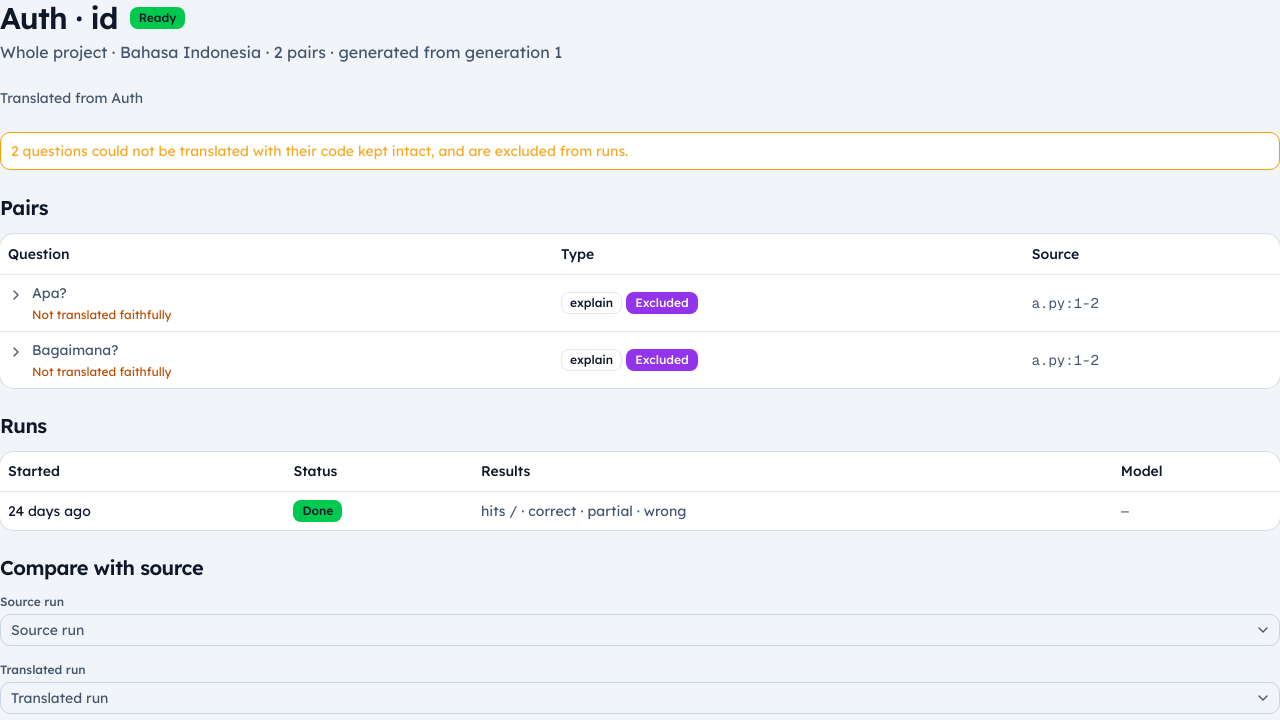
Test case: EvalSetScreen › compares a translated run with a source run, labelled by language
The image size is (1280, 720).
Click the dropdown labelled "Source run". click: (48, 630)
box: [0,614,1279,646]
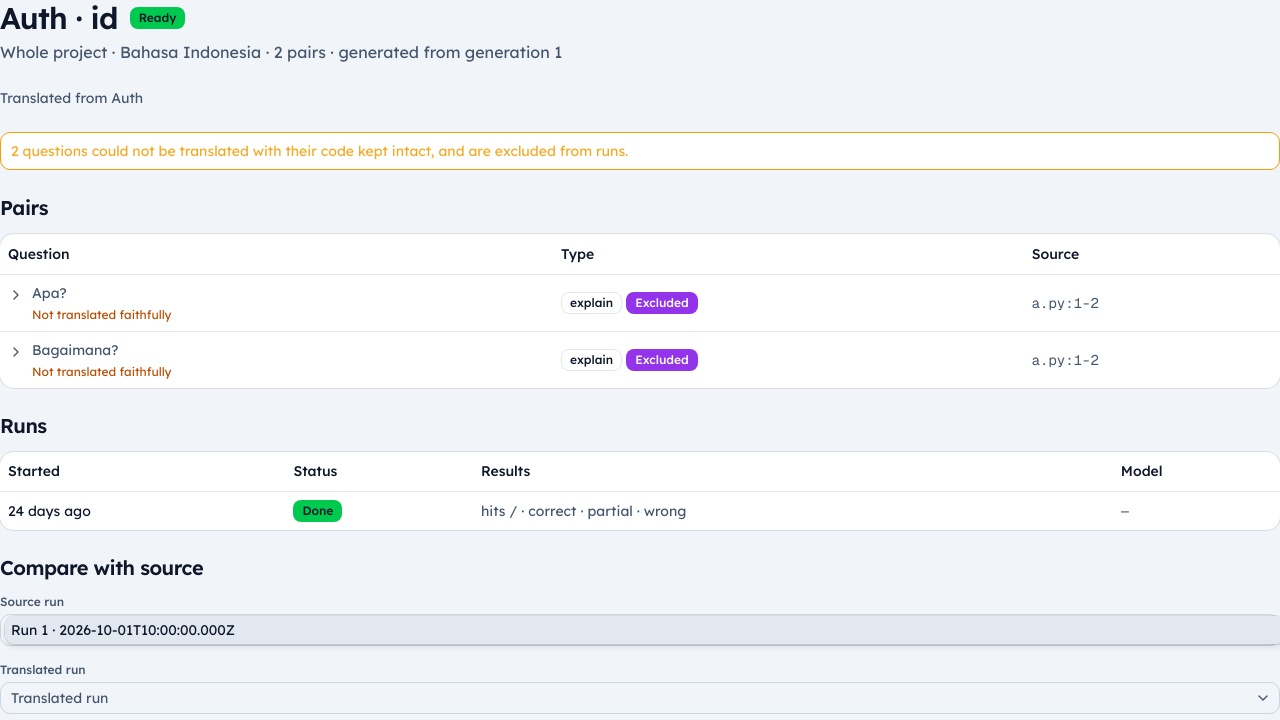
Click the option "Run 1 · 2026-10-01T10:00:00.000Z". click: (123, 630)
box: [5,616,1279,644]
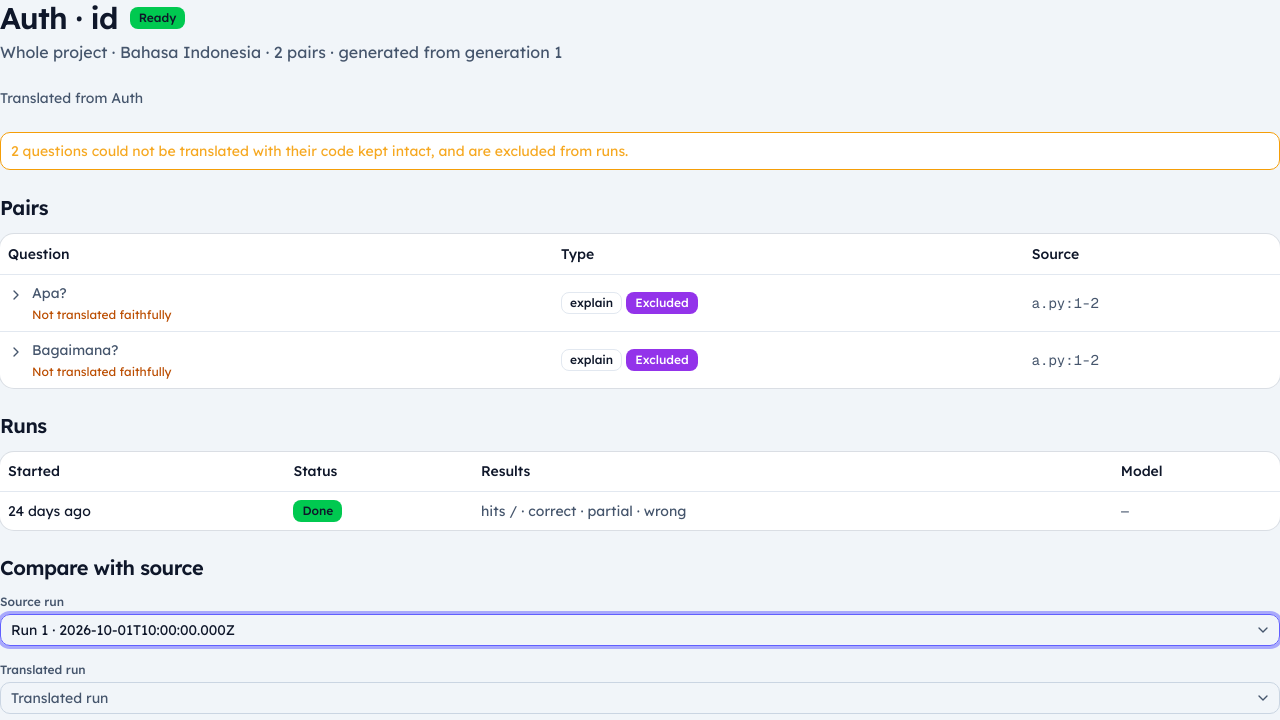
Click the dropdown labelled "Translated run". click: (60, 698)
box: [0,682,1279,714]
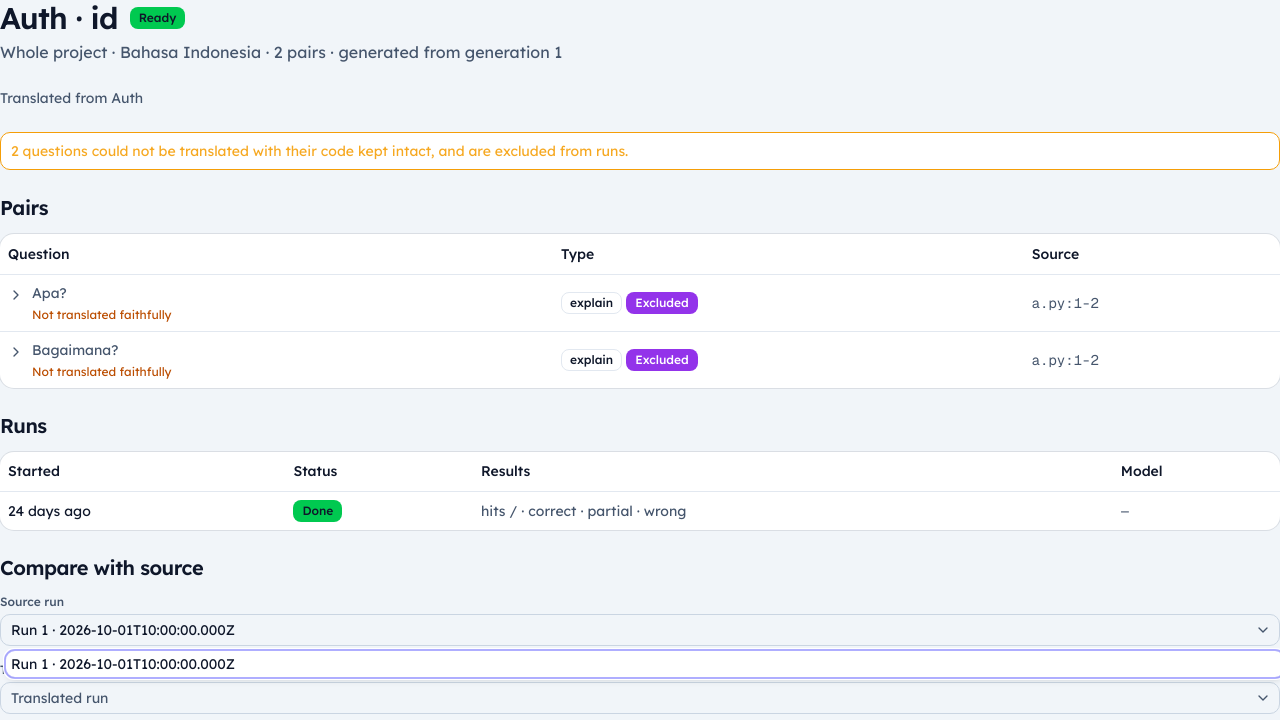
Click the option "Run 1 · 2026-10-01T10:00:00.000Z". click: (123, 664)
box: [11,655,235,673]
(page scrolled)
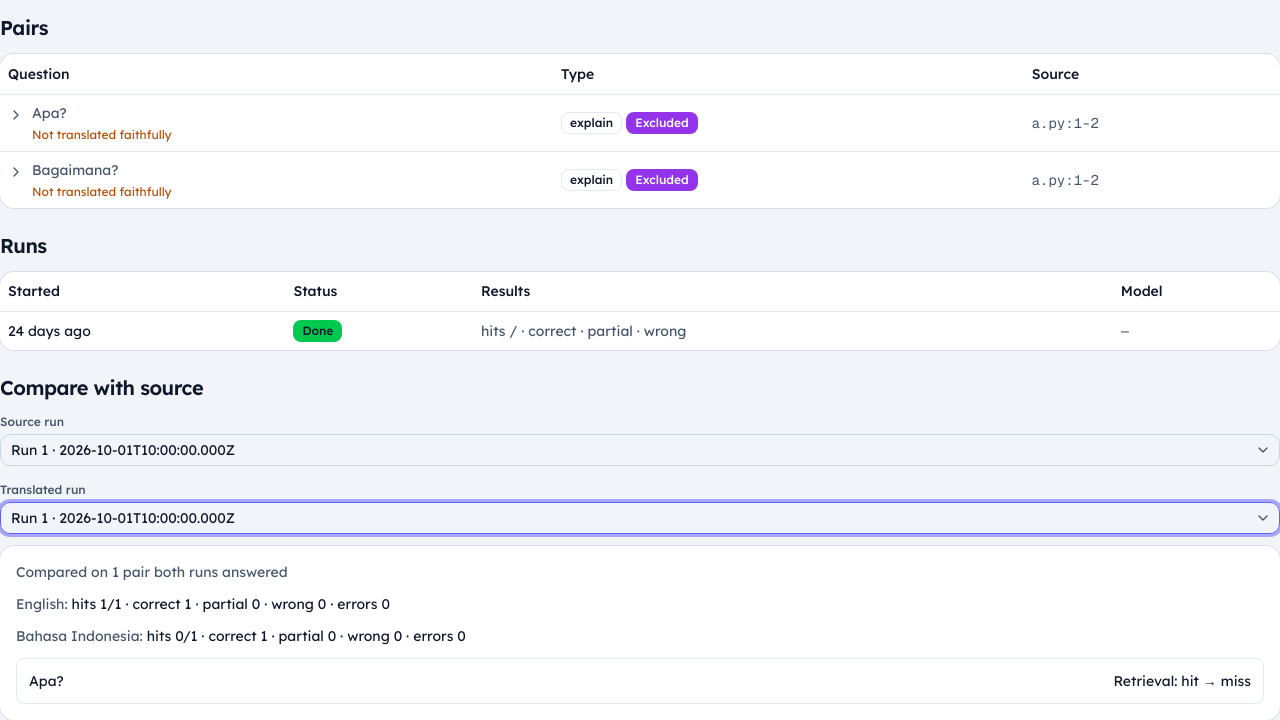
Result: the text "English:" is shown at [16,595,68,613]
Result: the text "Bahasa Indonesia:" is shown at [16,627,143,645]
Result: the text "Apa?" is shown at [29,672,64,690]
